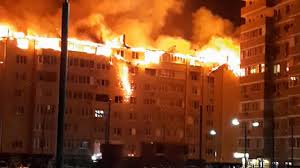fire: (12, 14, 243, 80)
